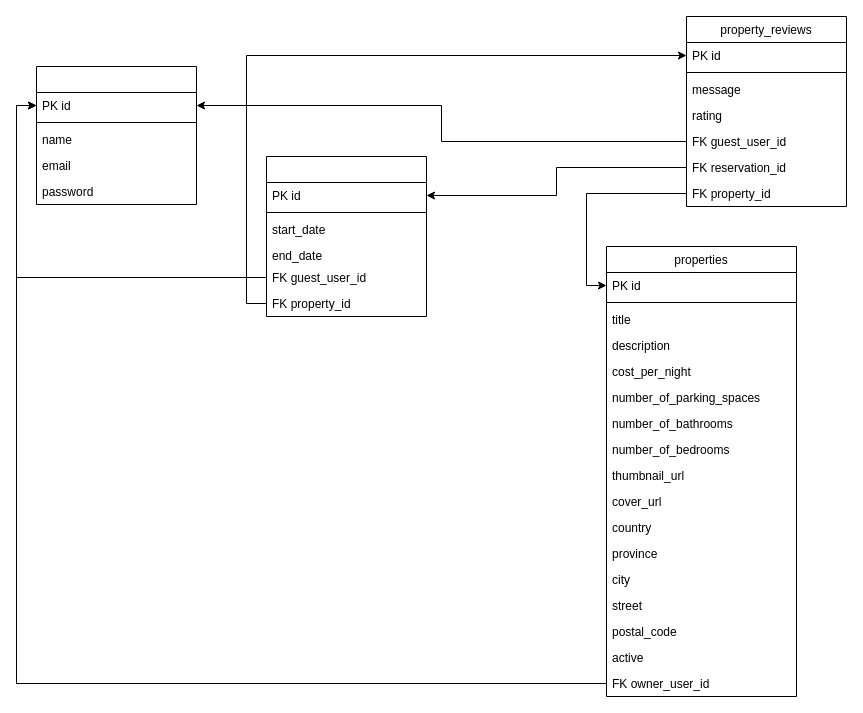
This 863x713 diagram has some shape labels left out. Each missing label, with the box of its shape:
reservations: (266, 156, 426, 316)
users: (36, 66, 196, 204)
